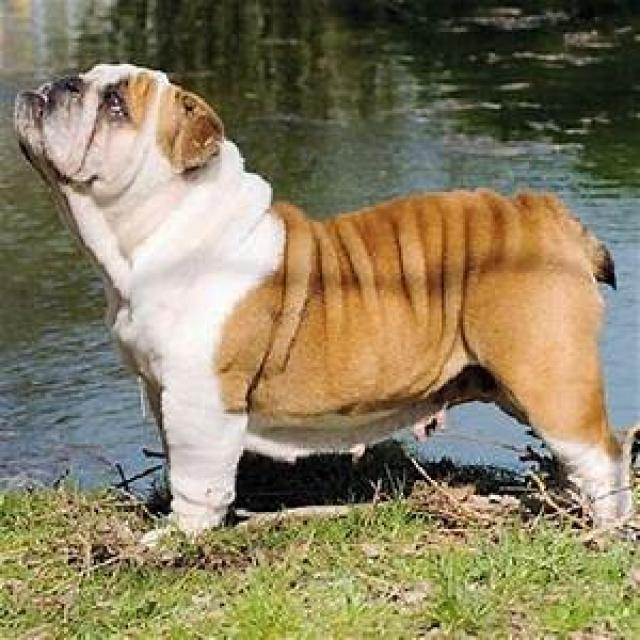dog: (11, 62, 634, 535)
